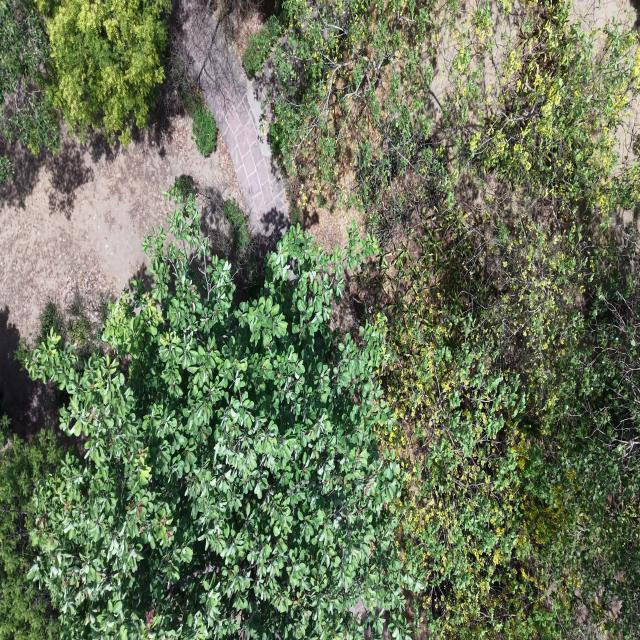DRY_AREA: (0, 17, 288, 425), (0, 40, 288, 434), (0, 13, 288, 407), (0, 30, 288, 423), (0, 15, 287, 335), (0, 116, 241, 432), (0, 116, 240, 335), (182, 0, 365, 250), (179, 0, 295, 248), (180, 0, 288, 244), (180, 0, 288, 239), (181, 0, 288, 239), (425, 0, 529, 139), (226, 10, 283, 192), (428, 0, 486, 138), (430, 0, 485, 138), (0, 307, 57, 435), (430, 0, 485, 122), (431, 0, 484, 122), (283, 179, 365, 250), (301, 207, 366, 251), (226, 5, 268, 60), (572, 0, 639, 30), (572, 0, 639, 28)
PATHWAYS: (183, 3, 288, 237)
VEGETATION_TREE: (22, 0, 639, 639), (272, 2, 639, 638), (363, 3, 639, 638), (28, 197, 405, 638), (388, 239, 638, 637), (270, 2, 635, 242), (270, 0, 441, 207), (0, 0, 170, 154), (38, 0, 170, 144), (0, 415, 64, 639), (0, 416, 60, 639), (174, 175, 261, 297), (0, 0, 58, 154), (168, 42, 218, 157), (34, 290, 109, 366), (216, 198, 263, 297), (222, 198, 263, 295), (242, 16, 281, 78), (188, 93, 217, 157), (223, 199, 250, 253), (35, 299, 67, 344), (174, 174, 196, 200), (0, 156, 13, 181)
